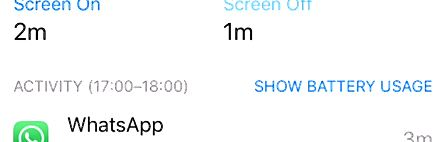activity: (8, 74, 199, 103)
